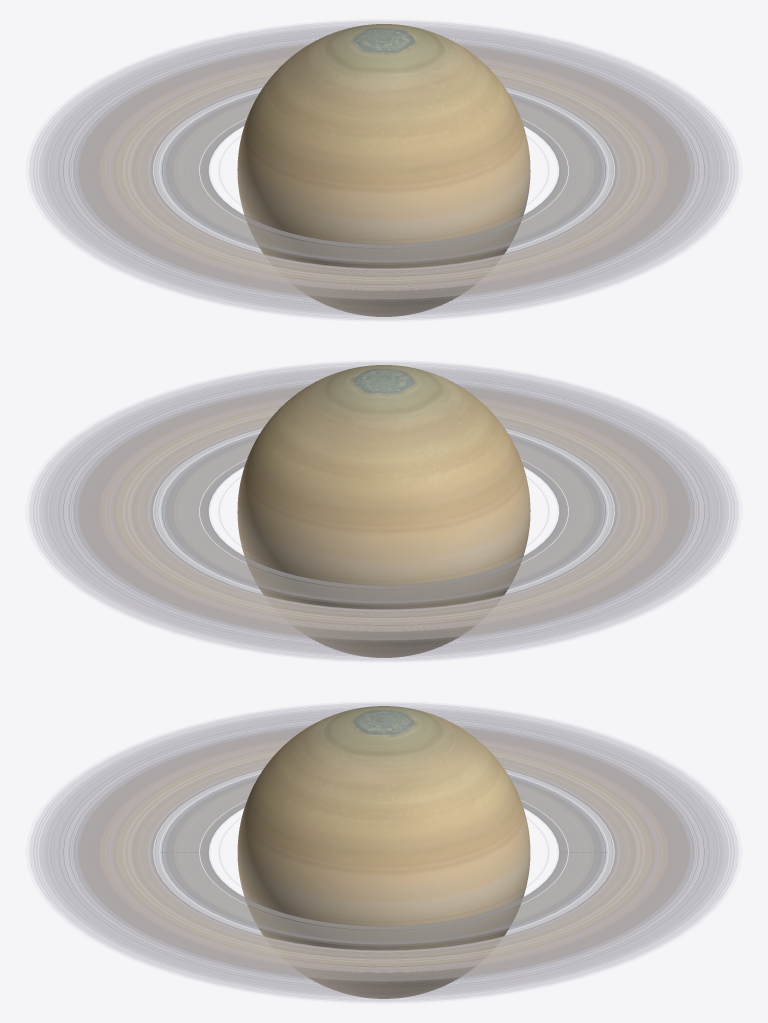
The model's file is Saturn.glb.
3 views of the same model, one above another, from view 1: azimuth 30°, elevation 25°; view 2: azimuth 150°, elevation 25°; view 3: azimuth 270°, elevation 25° (orthographic).
Parts seen in each view (by area): view 1: ring, saturn; view 2: ring, saturn; view 3: ring, saturn.
Part boxes in pixels (x1,y1,x2,y2): ring: (29,21,738,319); saturn: (237,24,530,316); ring: (29,362,738,660); saturn: (237,365,530,657); ring: (29,703,738,1001); saturn: (237,706,530,998).
Size of the model in its own units: 5.05 by 2 by 5.05.
Materials: 2 (2 with a texture image).
